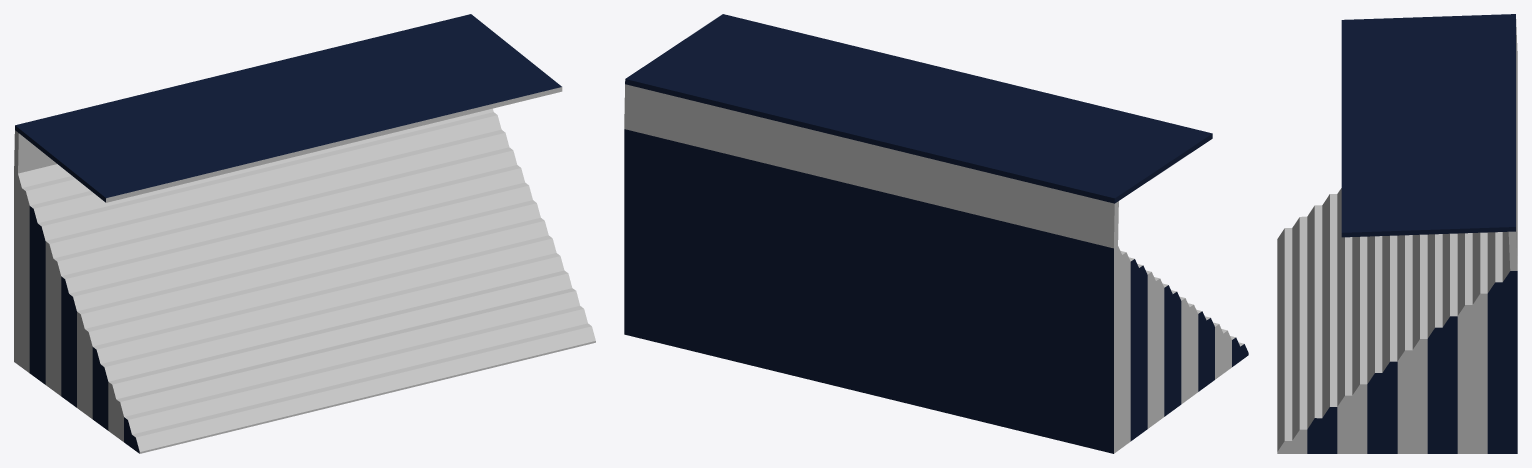
The model's file is GradinClosed.obj.
3 views of the same model, side by side, from view 1: azimuth 30°, elevation 25°; view 2: azimuth 150°, elevation 25°; view 3: azimuth 270°, elevation 25° (orthographic). The views are drawn at different scales.
Parts seen in each view (by area): view 1: Cube.004_Cube.006; view 2: Cube.004_Cube.006; view 3: Cube.004_Cube.006.
Part boxes in pixels (x1=…): Cube.004_Cube.006: x1=14, y1=14, x2=595, y2=453; Cube.004_Cube.006: x1=624, y1=14, x2=1248, y2=453; Cube.004_Cube.006: x1=1277, y1=14, x2=1517, y2=453.
Size of the model in its own units: 9.81 by 4.88 by 4.68.
